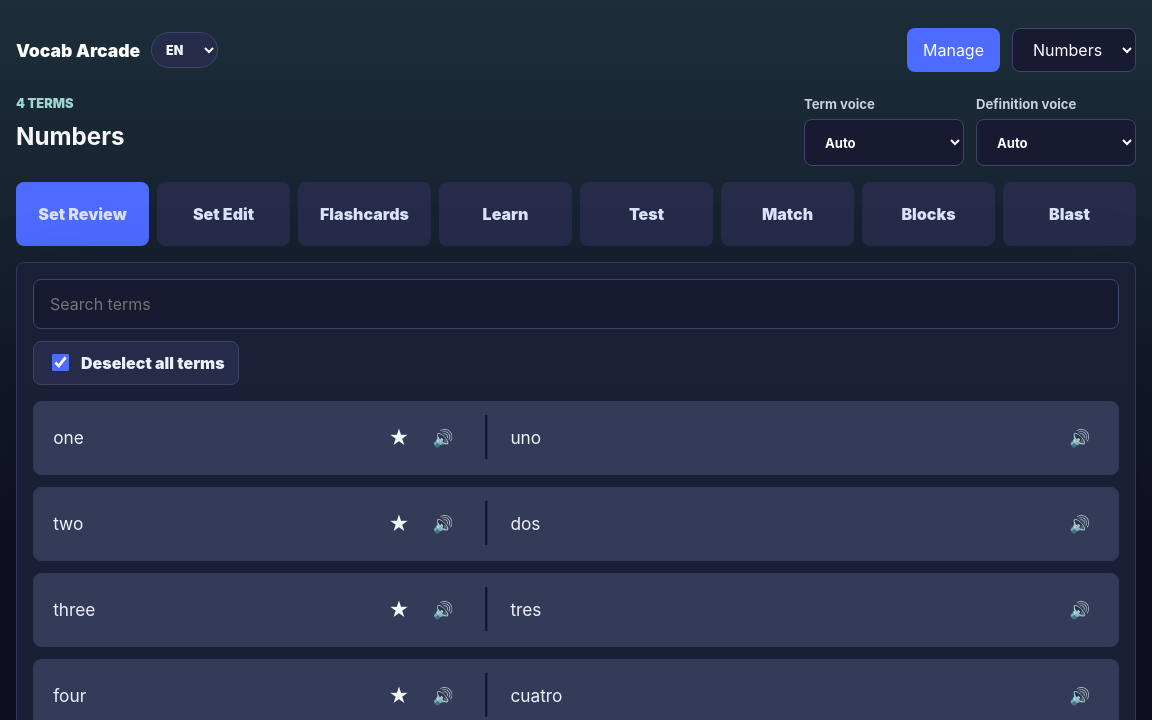
Test: App › shows an empty practice state when every term is inactive
The width and height of the screenshot is (1152, 720).
Click the button named "Active for learning. Click to exclude from exercises.".
click(399, 438)  # box [380,418,418,457]
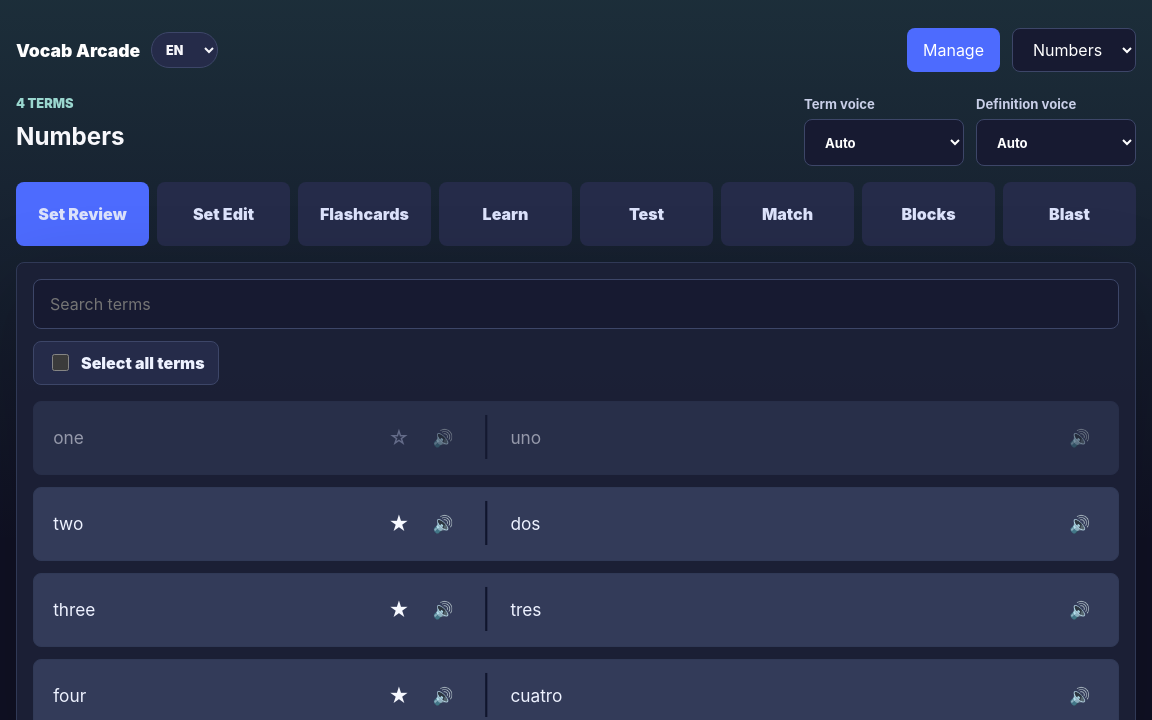
Click the button named "Active for learning. Click to exclude from exercises.".
click(399, 524)  # box [380,504,418,543]
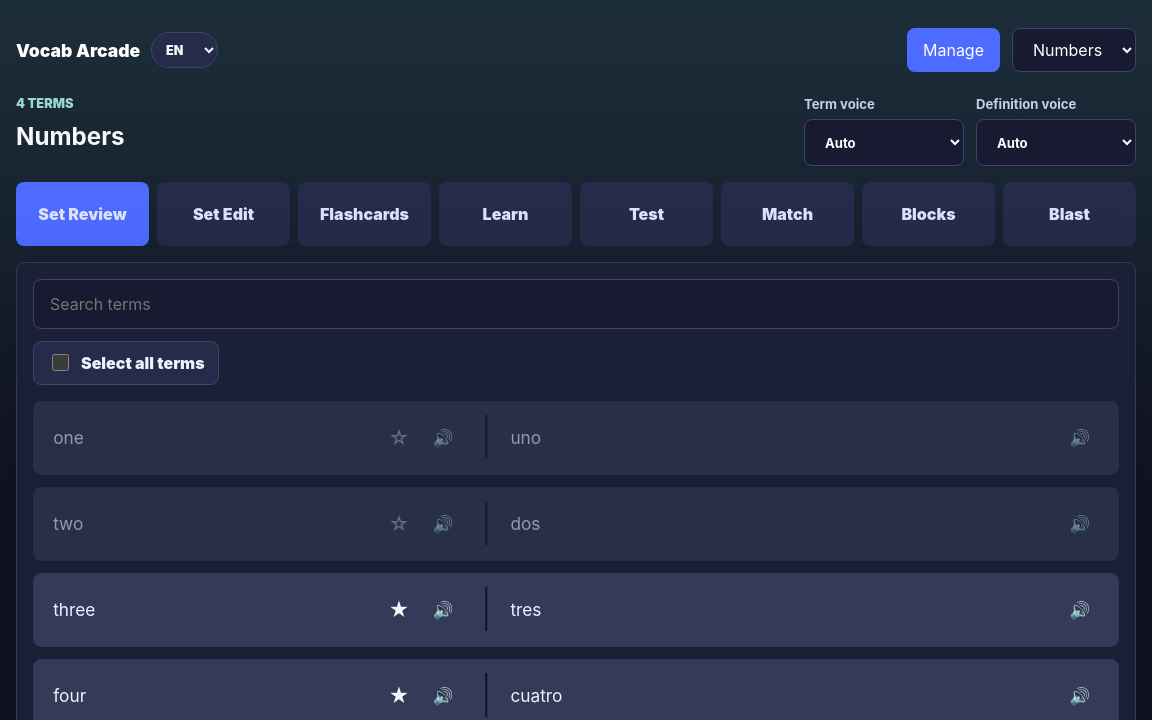
Click the button named "Active for learning. Click to exclude from exercises.".
click(399, 610)  # box [380,590,418,629]
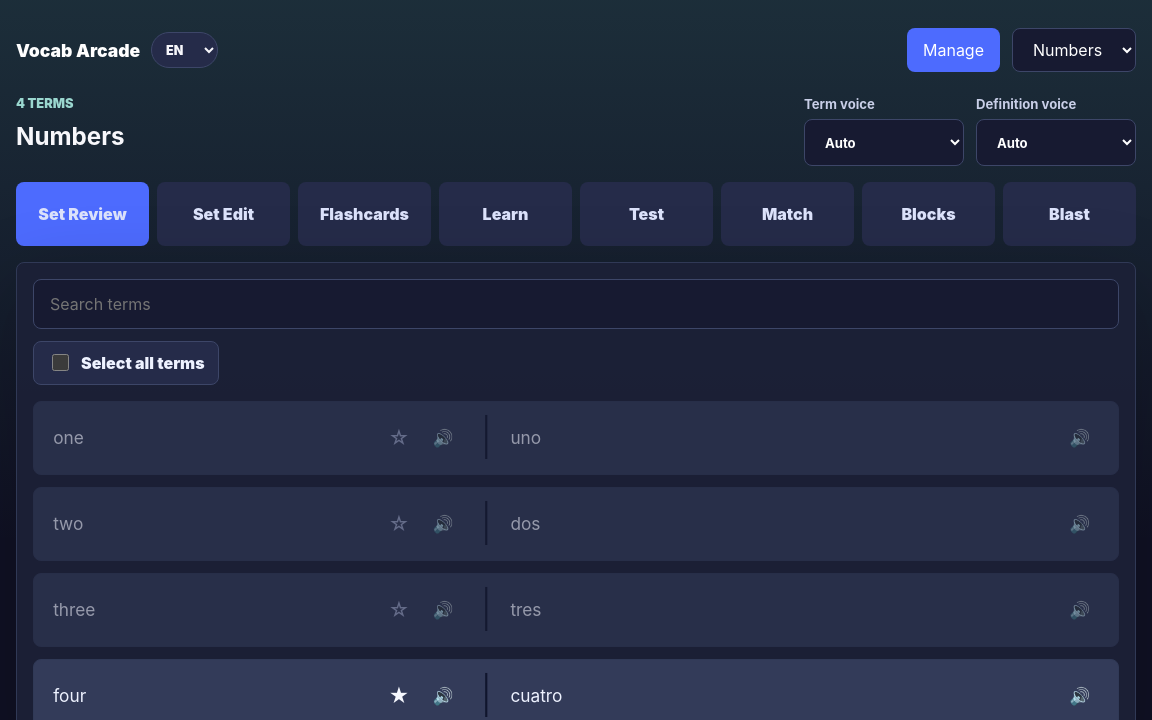
Click the button named "Active for learning. Click to exclude from exercises.".
click(399, 696)  # box [380,676,418,715]
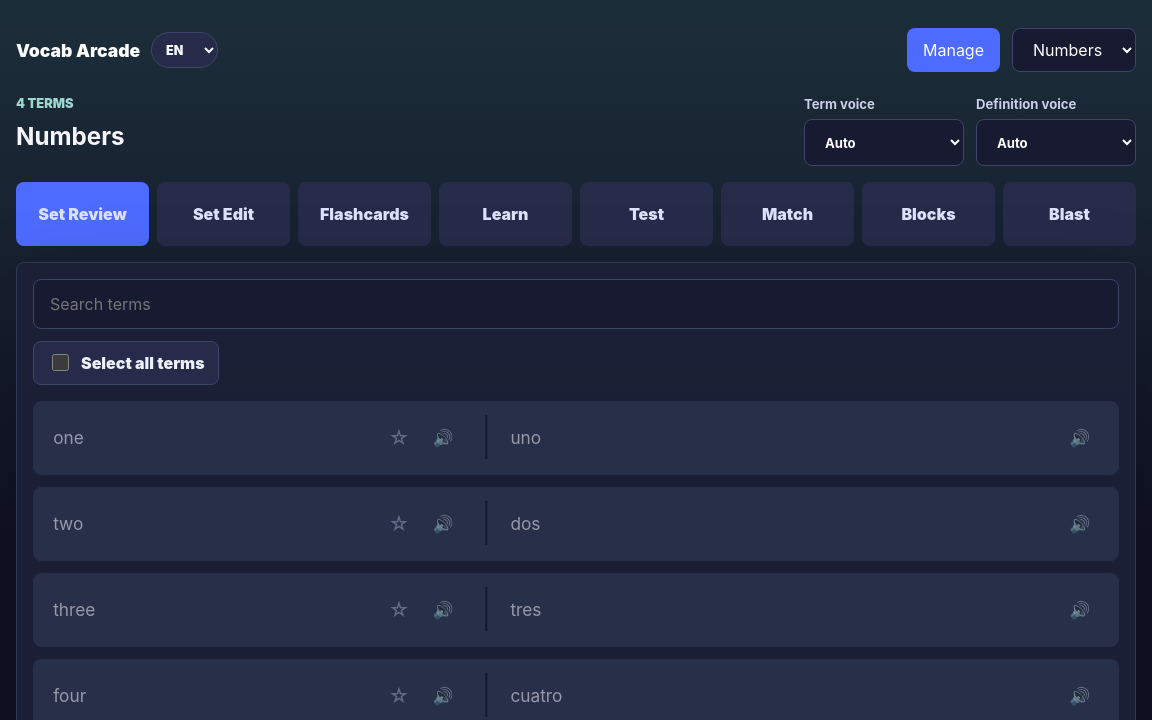
Click the tab "Learn".
click(506, 214)  # box [439,182,572,246]
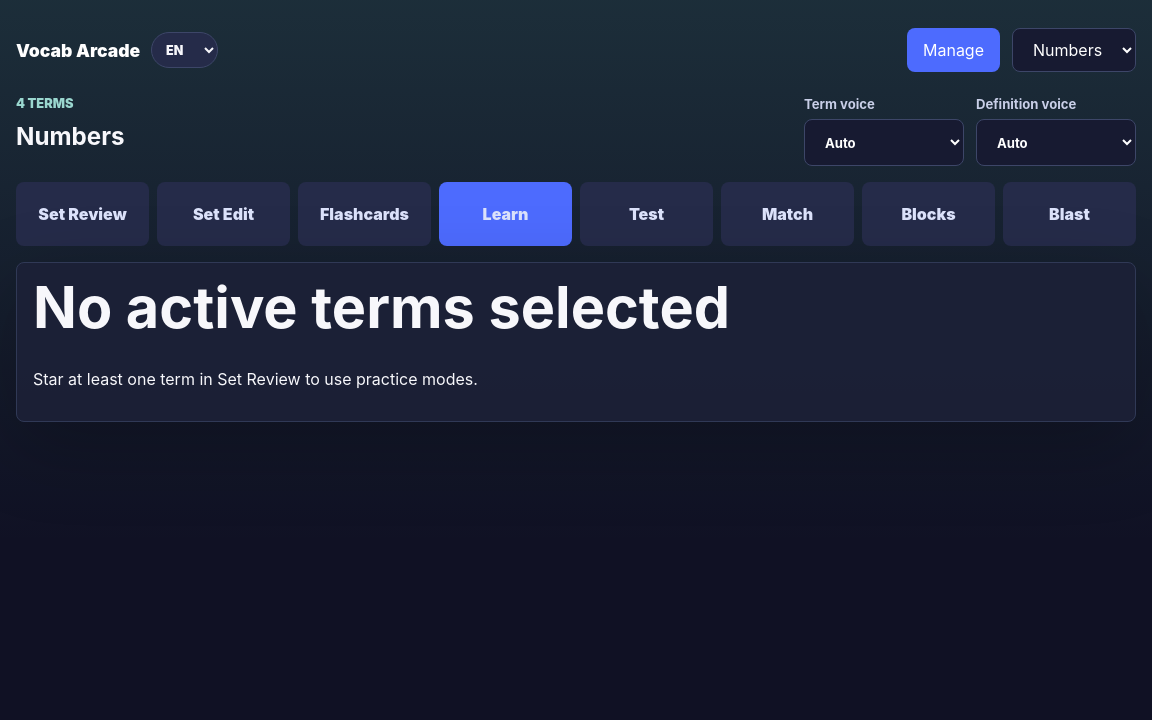
Expected: the heading "No active terms selected" is shown, [33,272,730,342]
Expected: the text "Star at least one term in Set Review to use practice modes." is shown, [33,369,478,389]
